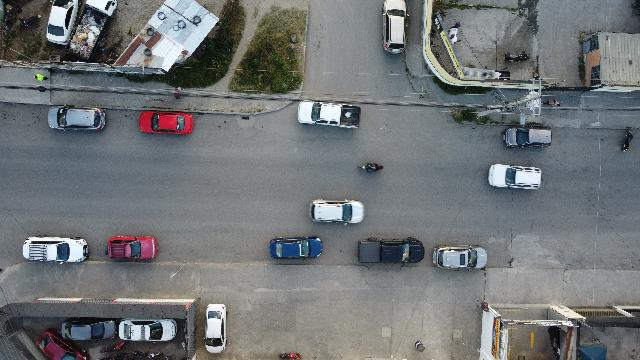Vehiculo: (23, 235, 88, 263), (36, 329, 88, 360), (298, 102, 360, 128), (358, 238, 425, 262), (46, 0, 80, 46), (47, 105, 105, 131), (432, 244, 488, 270), (382, 0, 408, 54), (488, 164, 542, 190), (310, 199, 364, 225), (119, 318, 177, 342), (105, 236, 158, 260), (139, 112, 193, 134), (203, 304, 227, 352), (270, 237, 322, 259), (61, 320, 117, 340), (502, 127, 552, 147)
